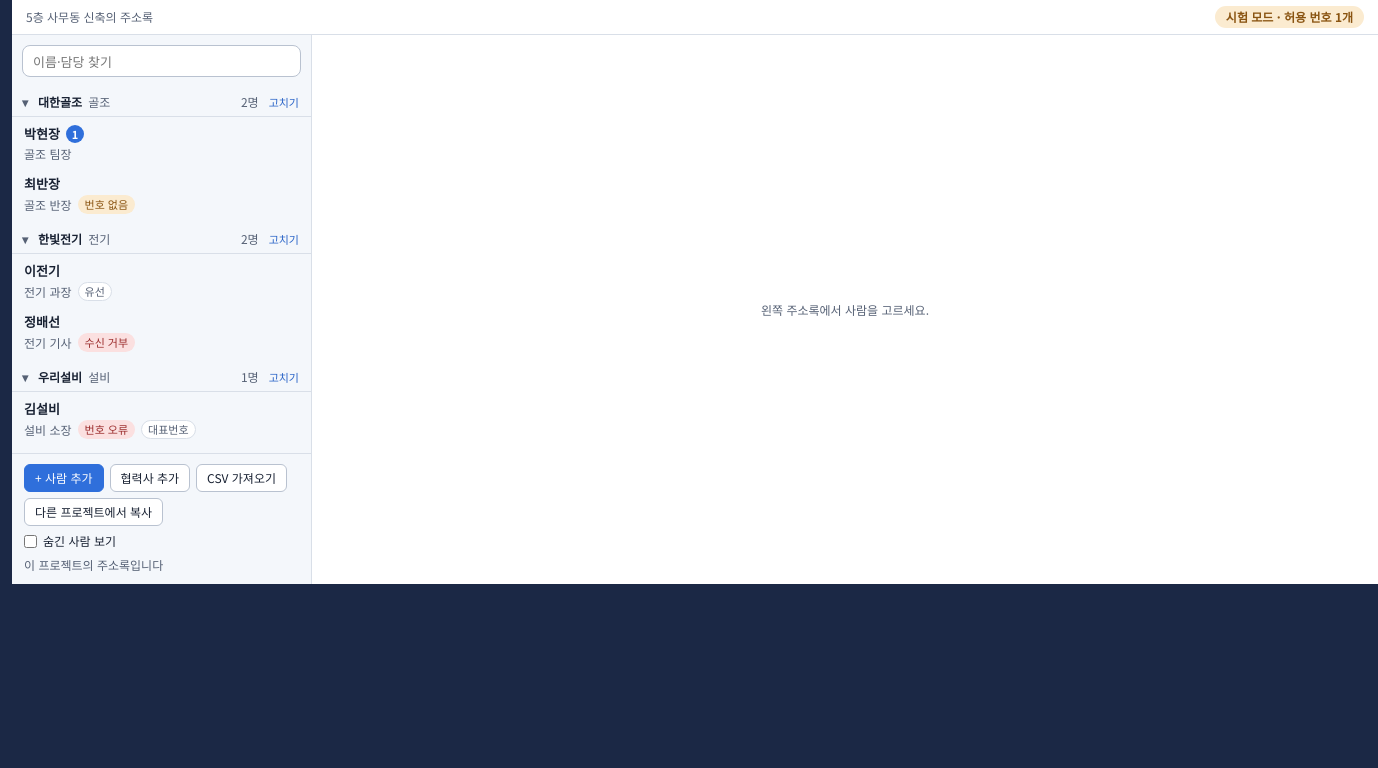
Scenario: address book › search matches name and role and hides empty companies
Expected: the text "박현장" is shown, left=24, top=125, right=60, bottom=143
Type "전기 기사" into the search field labelled "이름·담당 찾기".
click(162, 61); type("전기 기사")  # box left=22, top=45, right=301, bottom=77
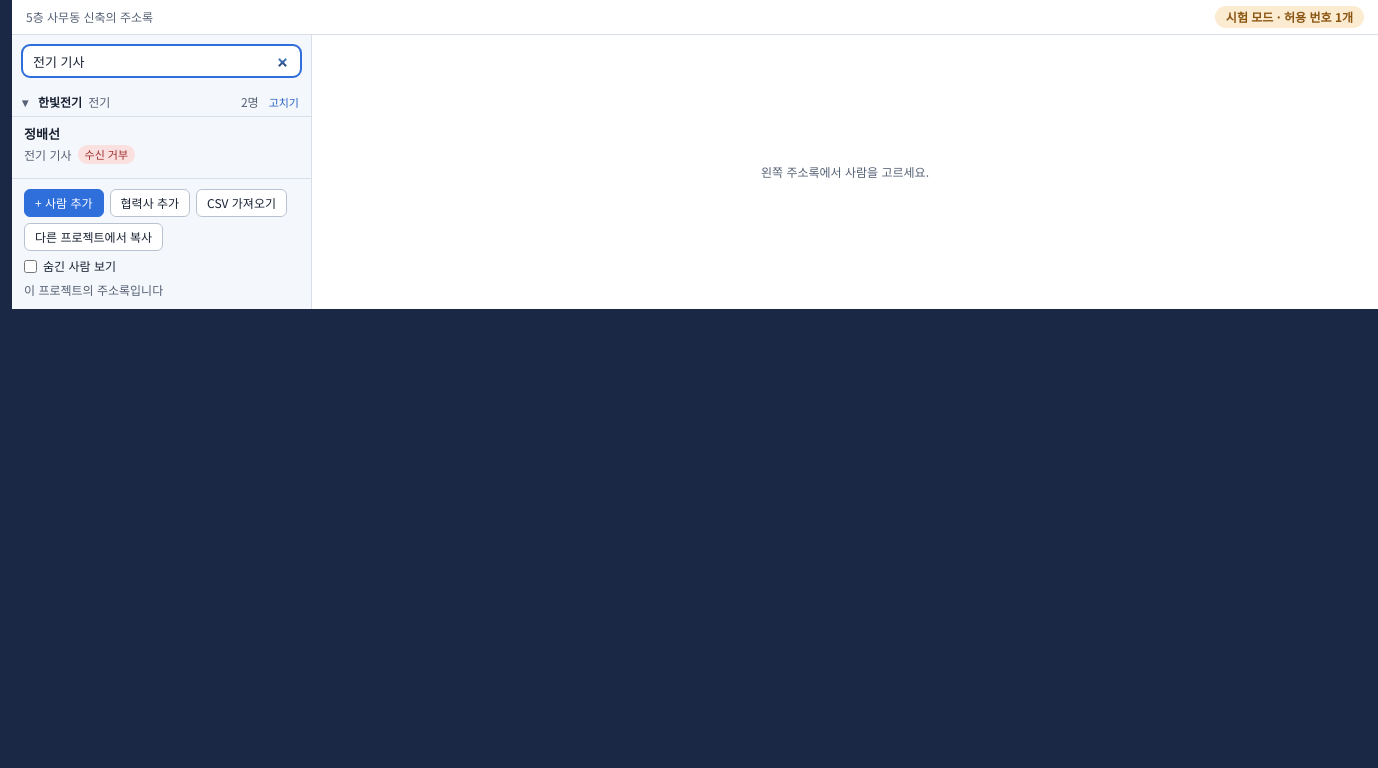
Expected: the button "정배선 전기 기사 수신 거부" is shown, left=12, top=119, right=311, bottom=170
Now the button "박현장" is gone
Now the button "대한골조" is gone
Replace the text in the search field named "이름·담당 찾기" with "최반" at (162, 61), box left=22, top=45, right=301, bottom=77
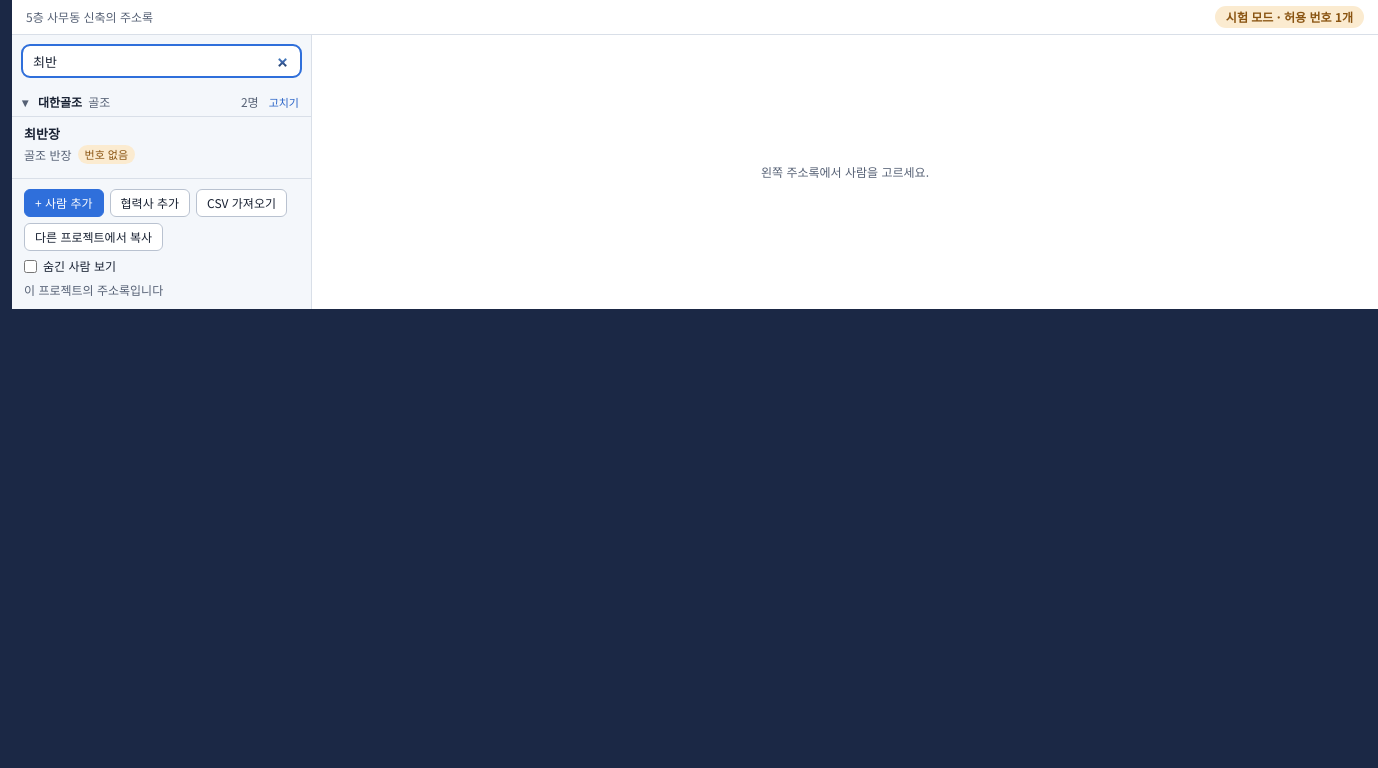
Expected: the button "정배선" is not shown
Now the button "최반장 골조 반장 번호 없음" is shown, box left=12, top=119, right=311, bottom=170
Type "없는사람" into the search field named "이름·담당 찾기".
click(162, 61); type("없는사람")  # box left=22, top=45, right=301, bottom=77
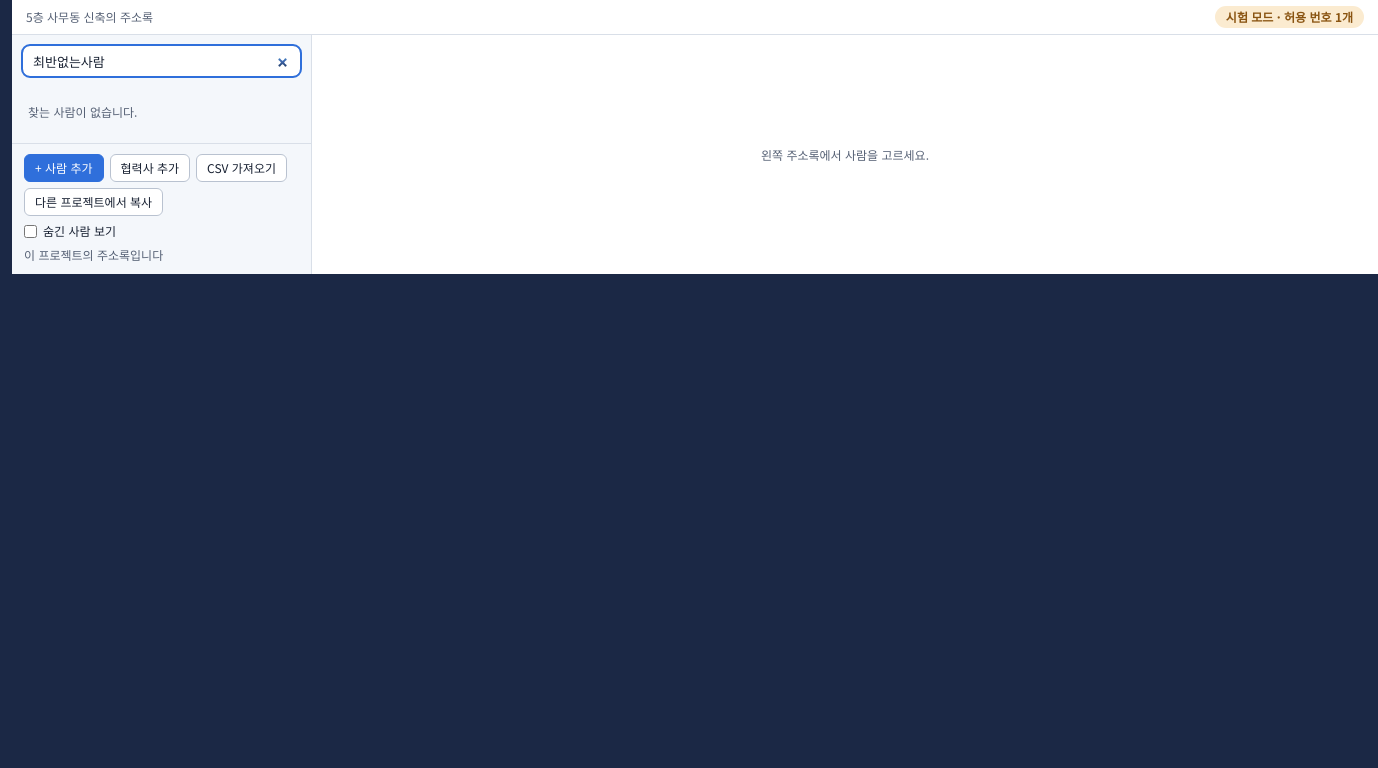
Now the text "찾는 사람이 없습니다." is shown, box left=28, top=103, right=137, bottom=120
